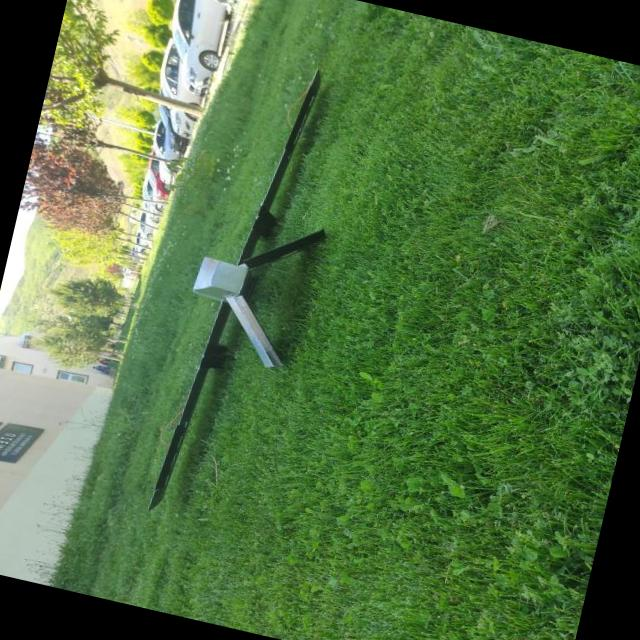UAV: (112, 47, 378, 546)
